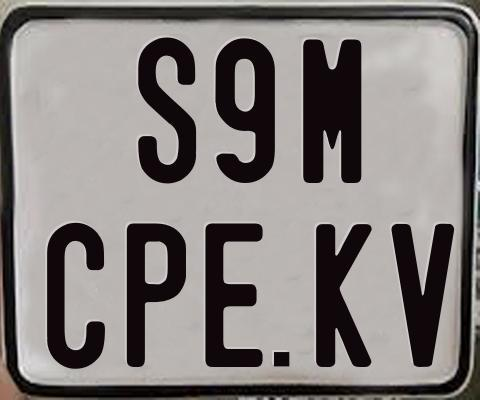9: (213, 35, 279, 182)
C: (45, 222, 104, 368)
E: (203, 223, 265, 371)
K: (316, 224, 377, 371)
M: (301, 38, 361, 186)
P: (126, 222, 191, 372)
S: (136, 36, 199, 184)
V: (388, 223, 453, 368)
